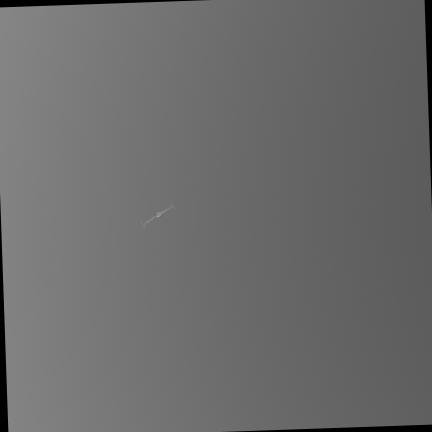Shahed: (141, 205, 173, 227)
